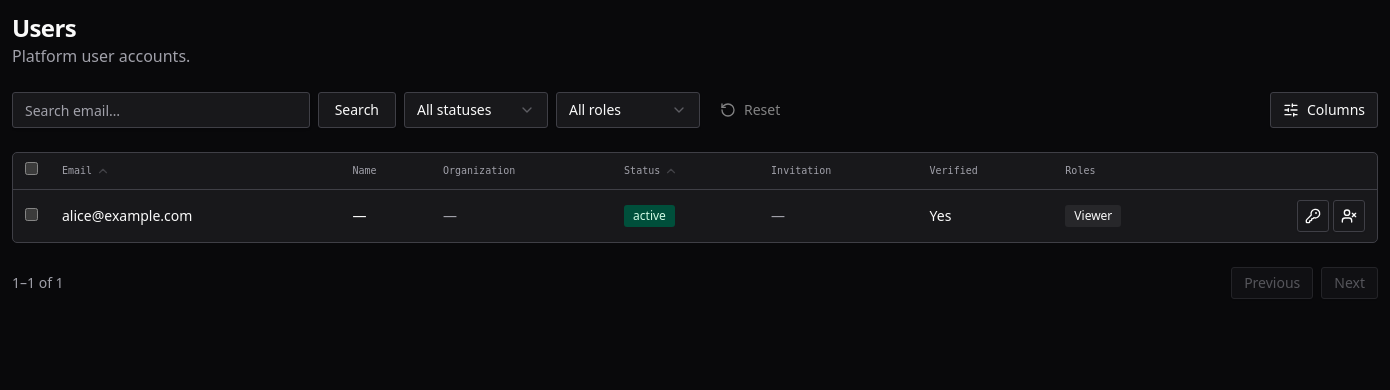
Test case: UsersListPage — bulk admin actions › splits the selection toolbar by permission
Check: the text "alice@example.com" is shown, box [62,206,192,224]
Click the checkbox named "Select all rows": (32, 169) [25,162,38,175]
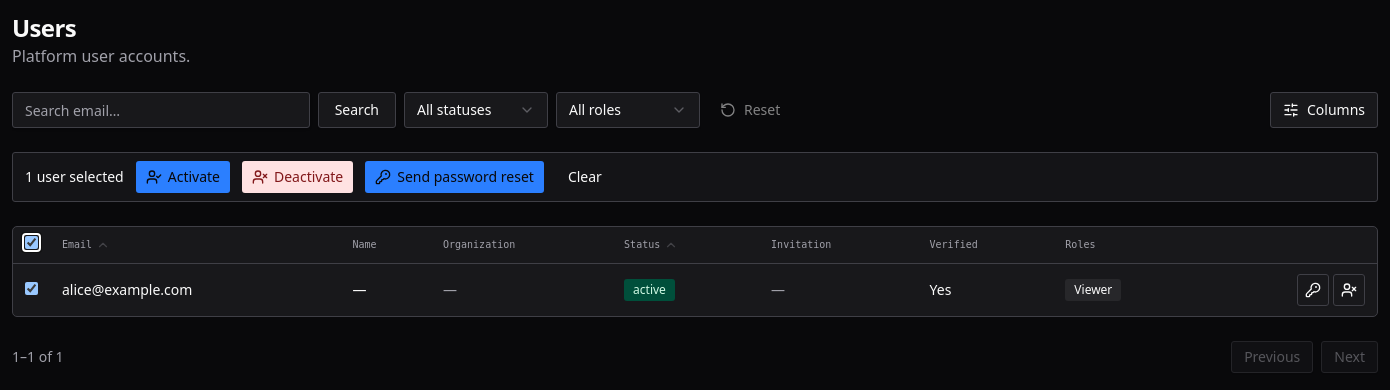
Check: the button "Activate" is shown, box [136,161,230,193]
Check: the button "Deactivate" is shown, box [242,161,353,193]
Check: the button "Send password reset" is shown, box [365,161,544,193]
